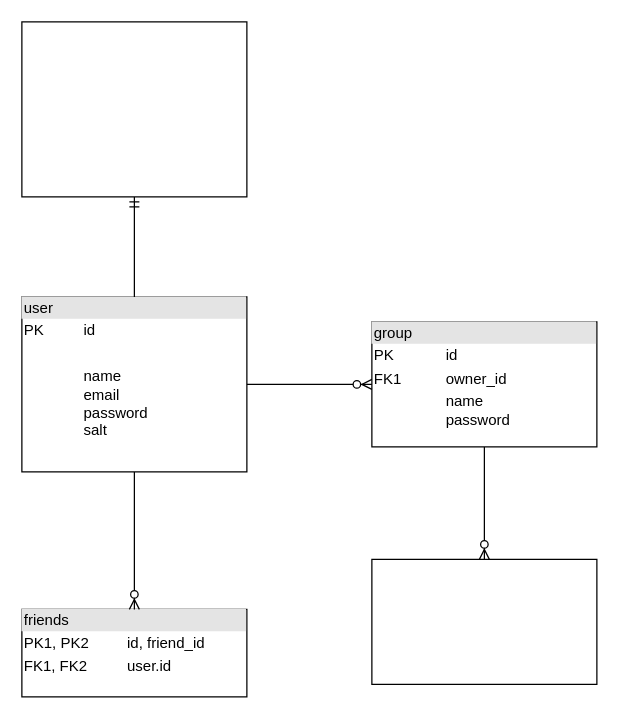
The diagram is 619 pixels wide and 719 high, and some of its shapes have lost their labels. The shapes that lost their labels are listed below. From the top down, each one's centre as x and y in pixels, then its label:
(134,109): disponibilte PK id FK FK user.id group.id begin DateTime end DateTime
(484,621): member PK id FK1 owner_id name password
